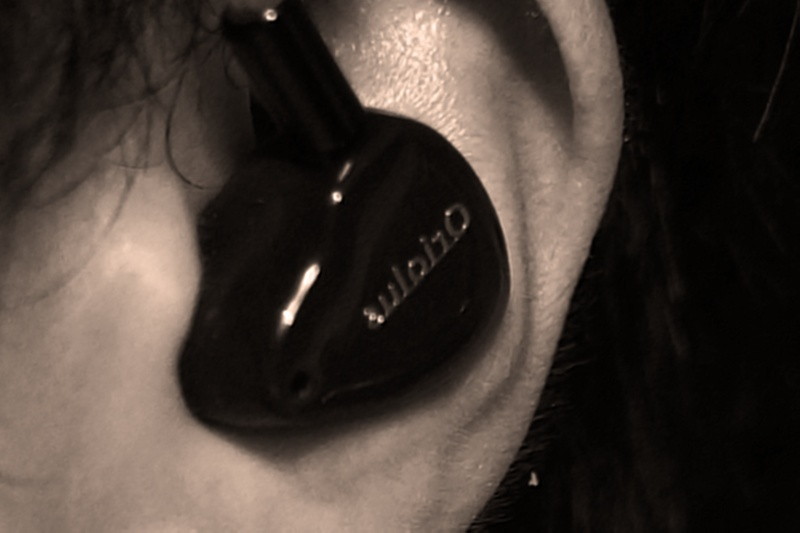earphone: (176, 1, 630, 533)
